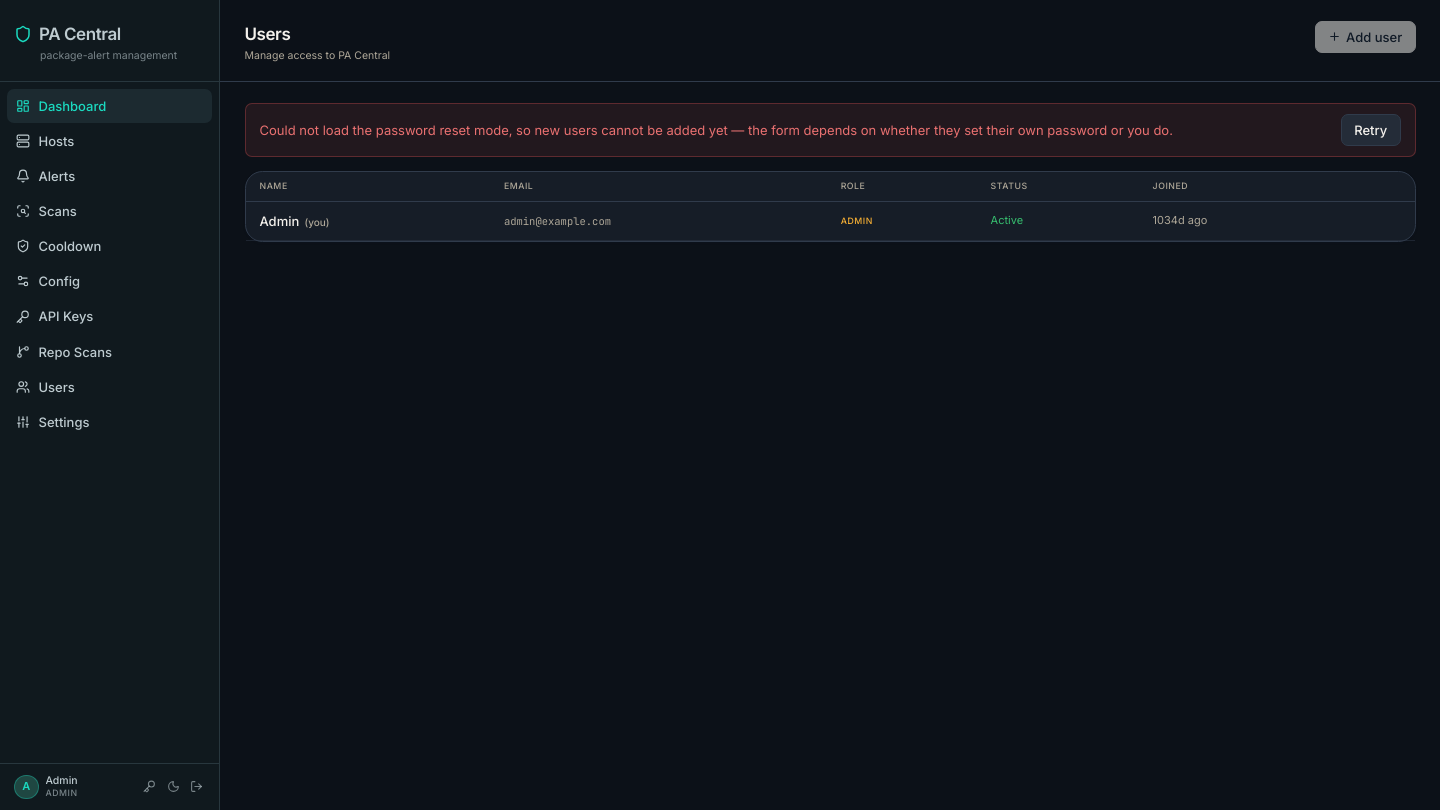
Test: Add user — before the credential mode is known › recovers when the retry succeeds
Click the button "Retry" at (1371, 130), box [1341, 114, 1400, 146]
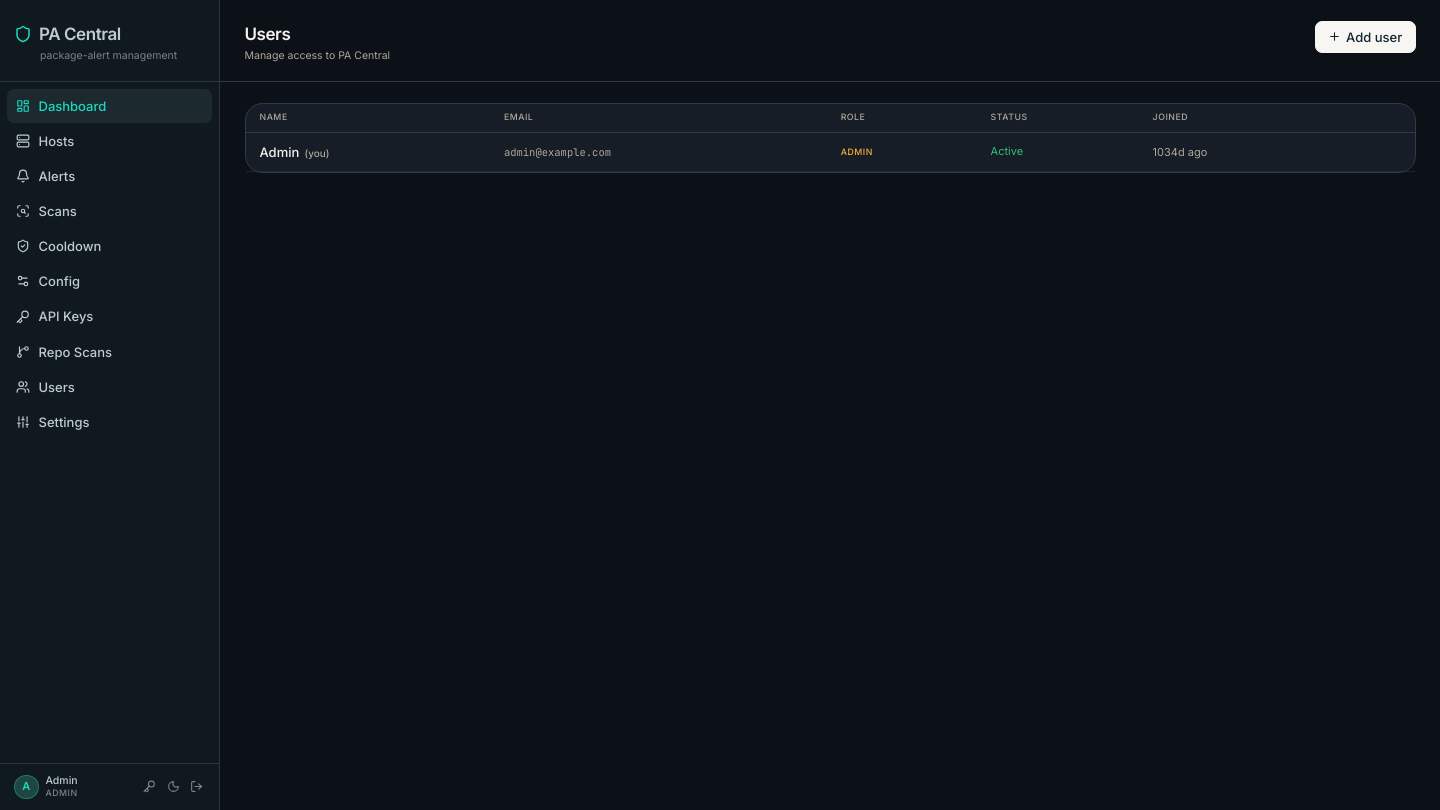
Expected: the button "Add user" is enabled, [1315, 21, 1416, 52]
Expected: the text "Could not load the password reset mode" is gone
